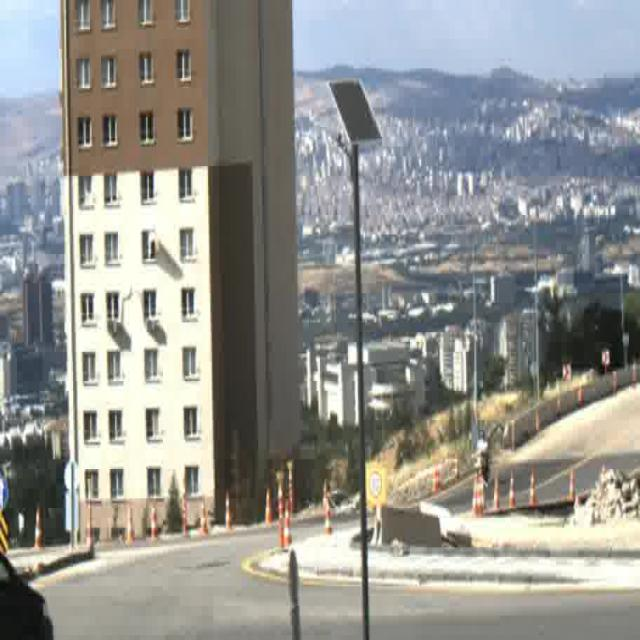Car: (0, 549, 53, 640)
Motorcycle: (473, 430, 493, 480)
